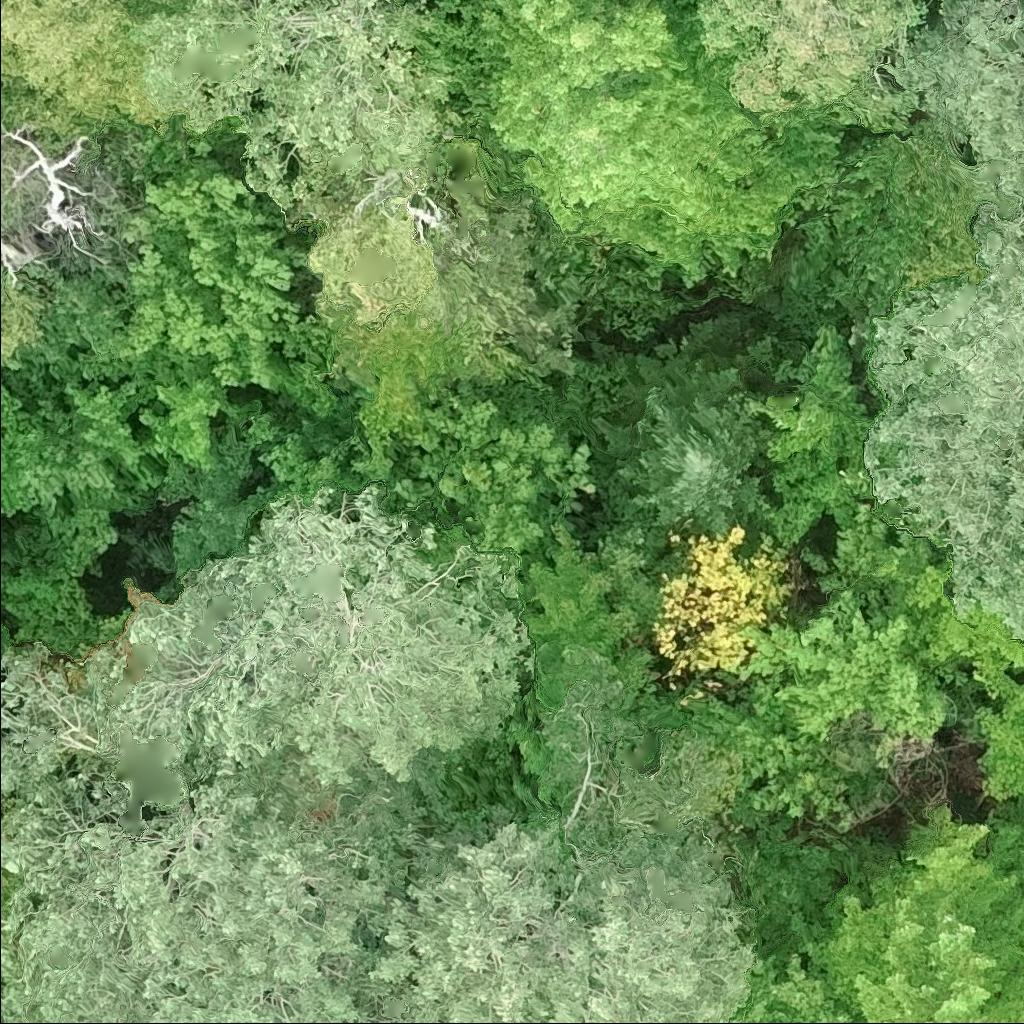crown: (0, 765, 760, 1023), (0, 478, 536, 794), (429, 0, 850, 292), (862, 166, 1023, 647), (134, 0, 469, 214), (803, 804, 1023, 1023), (745, 593, 949, 825), (123, 169, 330, 389), (599, 336, 769, 531), (393, 395, 594, 559), (689, 0, 938, 125), (888, 0, 1023, 211), (919, 559, 1023, 799), (656, 527, 800, 699), (515, 545, 649, 729), (0, 390, 122, 582), (302, 170, 450, 326), (0, 0, 150, 132), (737, 951, 859, 1023), (0, 263, 41, 354), (974, 813, 1023, 887), (497, 0, 553, 2), (0, 587, 5, 608)
